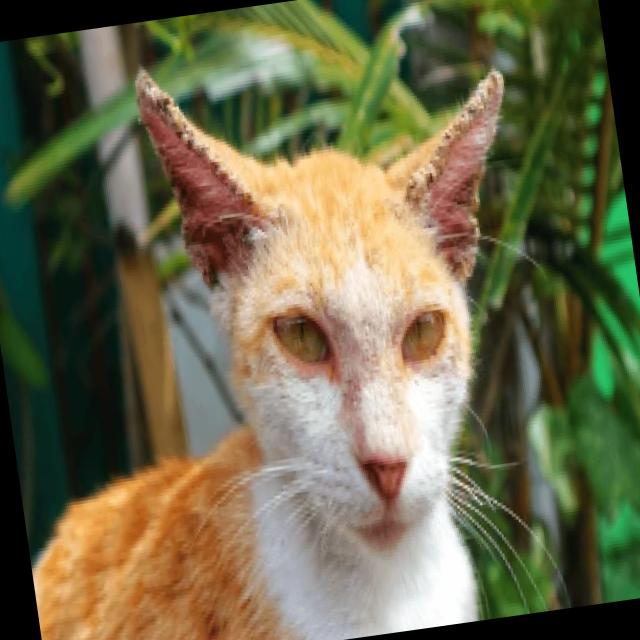Mange: (397, 68, 506, 206), (149, 74, 249, 207), (165, 161, 218, 298), (430, 168, 485, 286), (216, 215, 253, 274)
